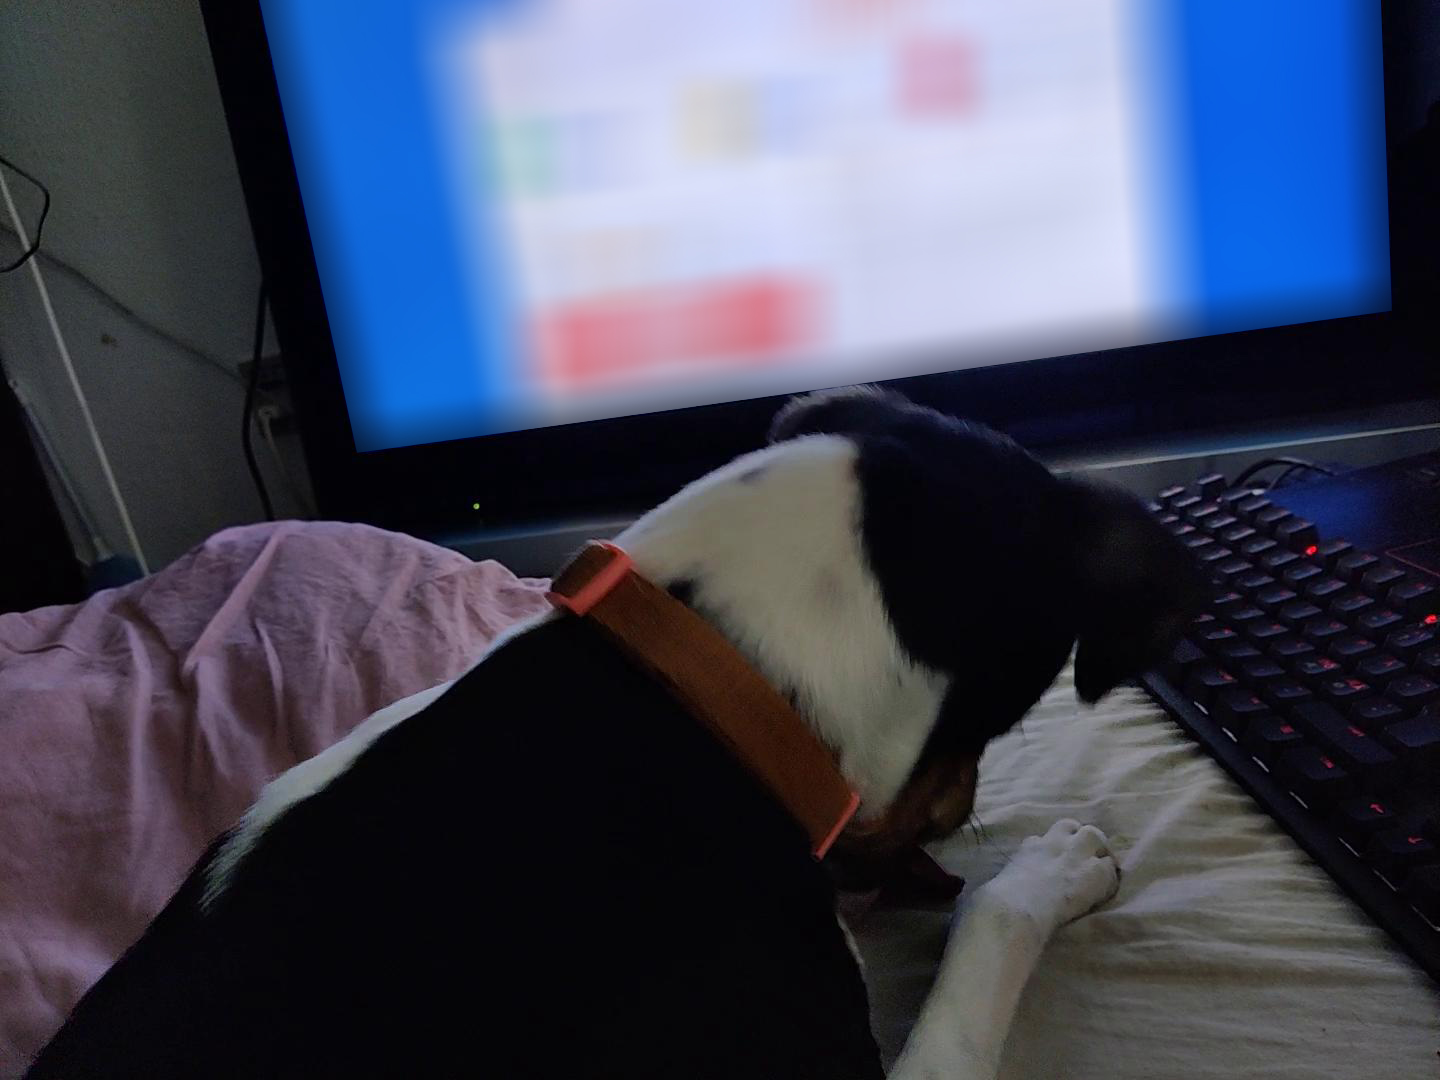Dog: (16, 372, 1225, 1079)
